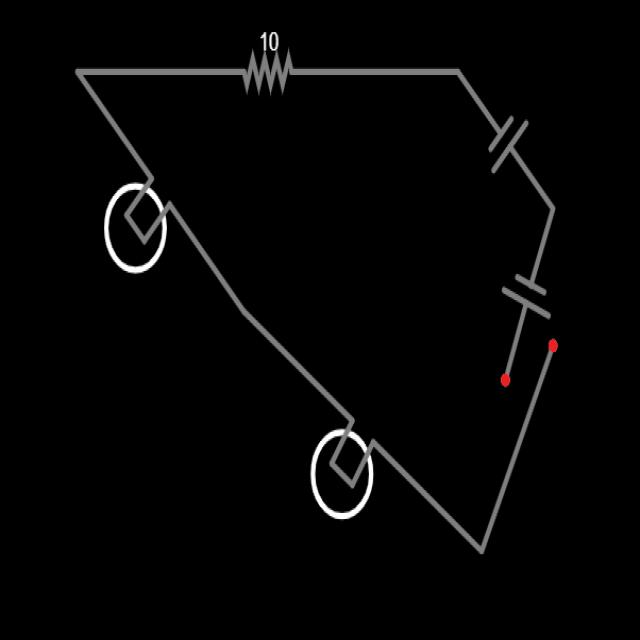Battery: (503, 272, 554, 321), (489, 115, 531, 174)
Light Bulb: (311, 428, 374, 519), (105, 184, 168, 273)
Resistor: (242, 50, 292, 95)
Wire: (479, 338, 559, 559), (370, 433, 486, 556), (243, 309, 356, 425), (165, 195, 247, 317), (79, 74, 155, 186), (454, 67, 502, 137), (510, 145, 557, 215), (501, 304, 528, 394), (527, 206, 557, 282), (292, 66, 458, 77), (75, 69, 246, 77)
